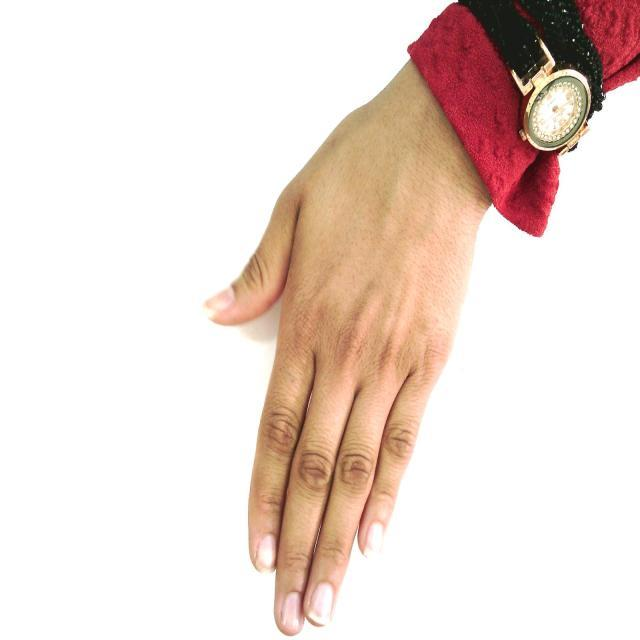Fingernail: (309, 583, 334, 625), (202, 287, 234, 317), (256, 535, 277, 574), (282, 592, 302, 631), (365, 523, 384, 560)
